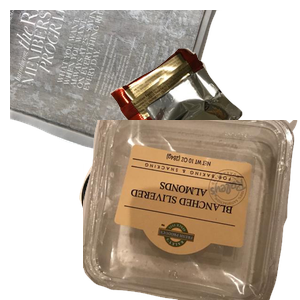glass: (77, 147, 295, 300)
paper: (10, 10, 222, 176)
plastic: (83, 120, 300, 300)
trash: (107, 46, 300, 198)
